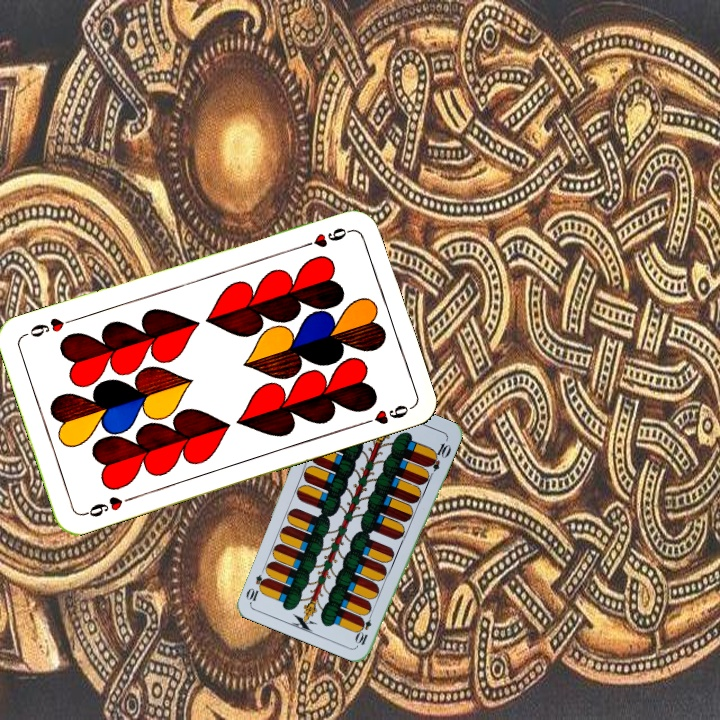E10: (353, 608, 375, 648)
H9: (79, 492, 136, 520), (297, 223, 354, 251)
